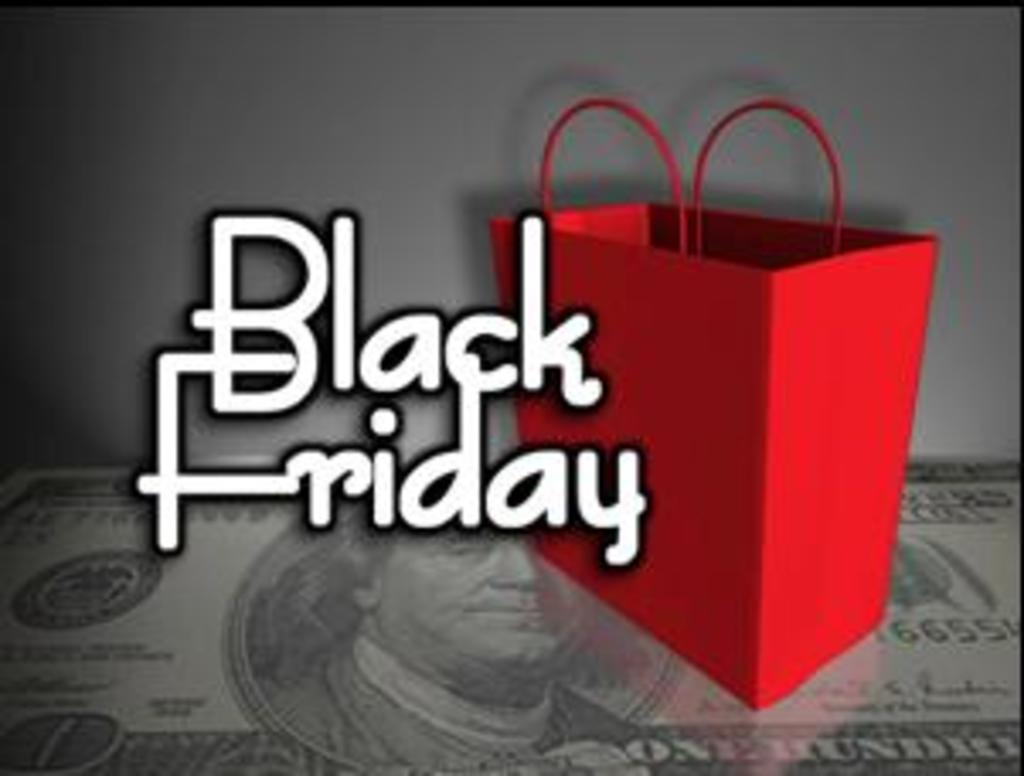Luggage-and-bags: (534, 31, 932, 728)
